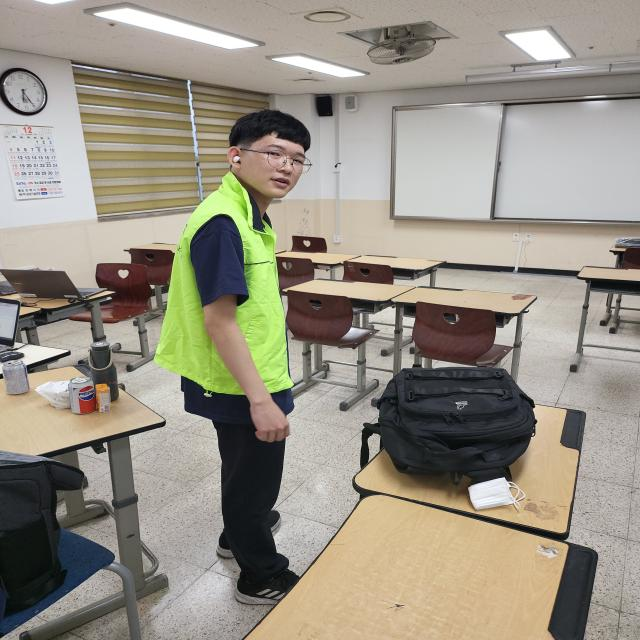weston_spy: (139, 154, 316, 414)
